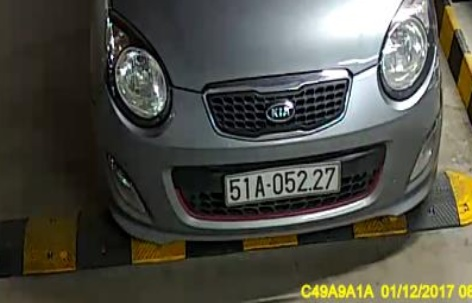plate: (219, 161, 345, 207)
